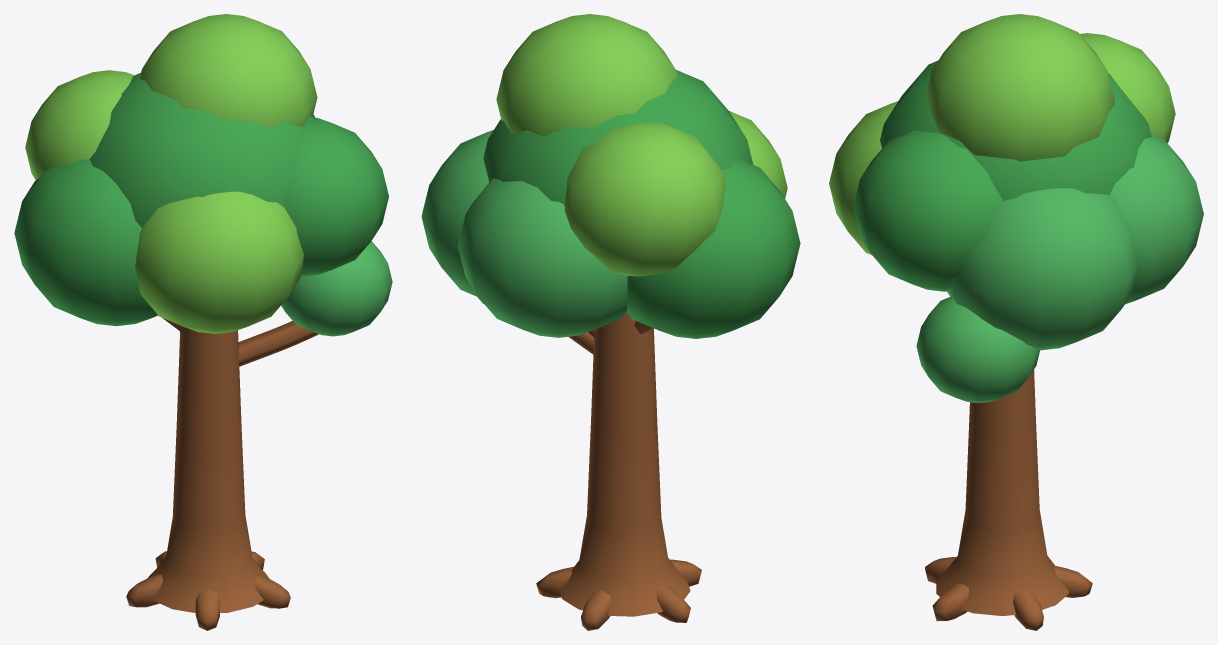
File: arvore_praca_gigante.glb
3 views of the same model, side by side, from view 1: azimuth 30°, elevation 25°; view 2: azimuth 150°, elevation 25°; view 3: azimuth 270°, elevation 25° (orthographic). The views are drawn at different scales.
Visible parts, largest first — view 1: arvore_praca_gigante; view 2: arvore_praca_gigante; view 3: arvore_praca_gigante.
Part boxes in pixels (x1,y1,x2,y2): arvore_praca_gigante: (14, 14, 392, 630); arvore_praca_gigante: (421, 14, 800, 630); arvore_praca_gigante: (829, 14, 1203, 630).
Bounding box in the file's own units: 11.96 × 19.1 × 11.03.
1 material, 1 textured.
